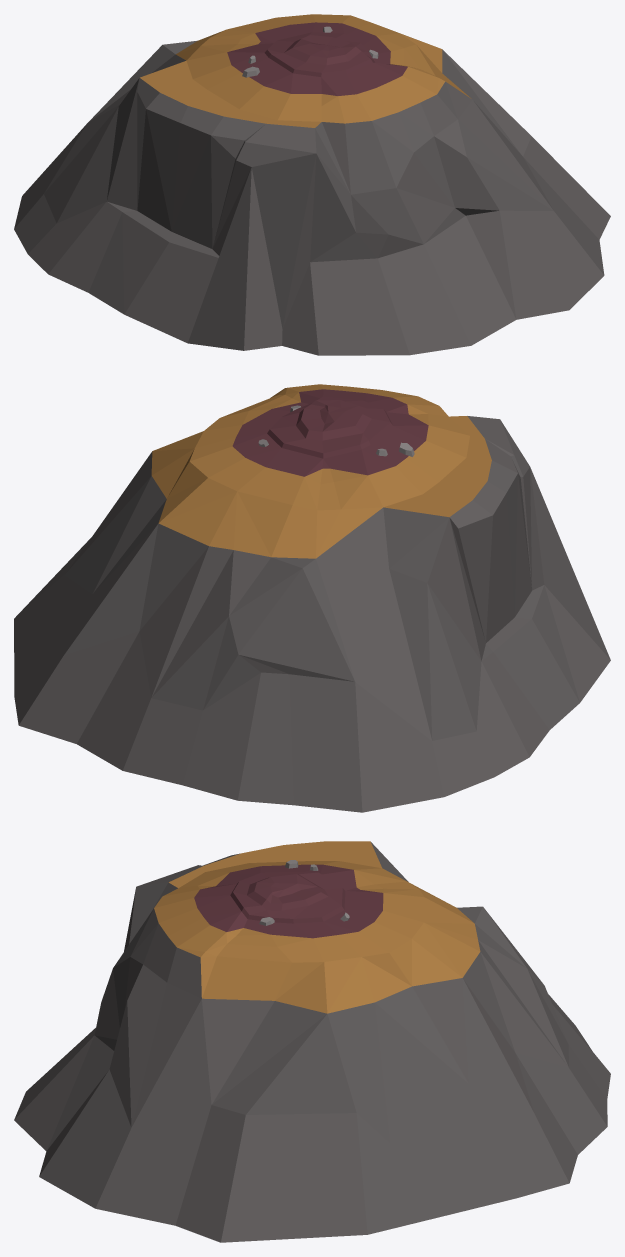
The model's file is island-round-tiny.fbx.
The picture shows the model from 3 angles, top to bottom: view 1: azimuth 30°, elevation 25°; view 2: azimuth 150°, elevation 25°; view 3: azimuth 270°, elevation 25°; orthographic projection. The views are drawn at different scales.
Parts seen in each view (by area): view 1: island-round-tiny; view 2: island-round-tiny; view 3: island-round-tiny.
Boxes of the visible parts, x1,y1,x2,y2 form: island-round-tiny: (14,14,610,355); island-round-tiny: (14,384,610,812); island-round-tiny: (14,841,610,1242).
Bounding box in the file's own units: 93.36 × 39.2 × 94.82.
